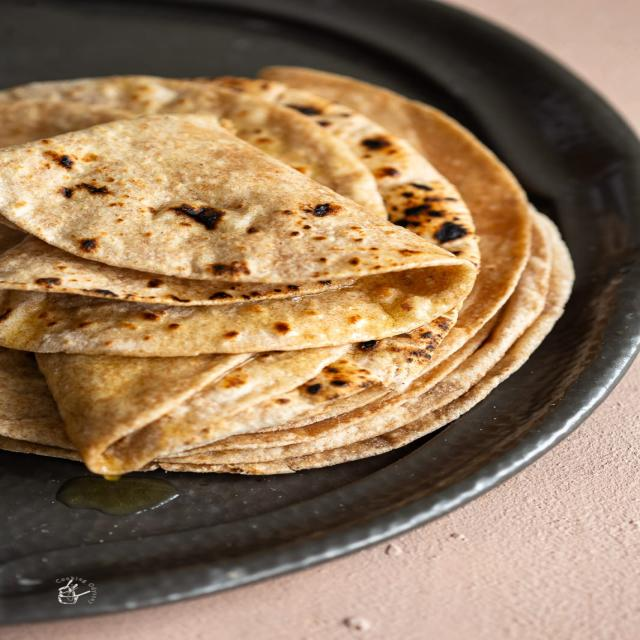dosa: (0, 100, 486, 366)
